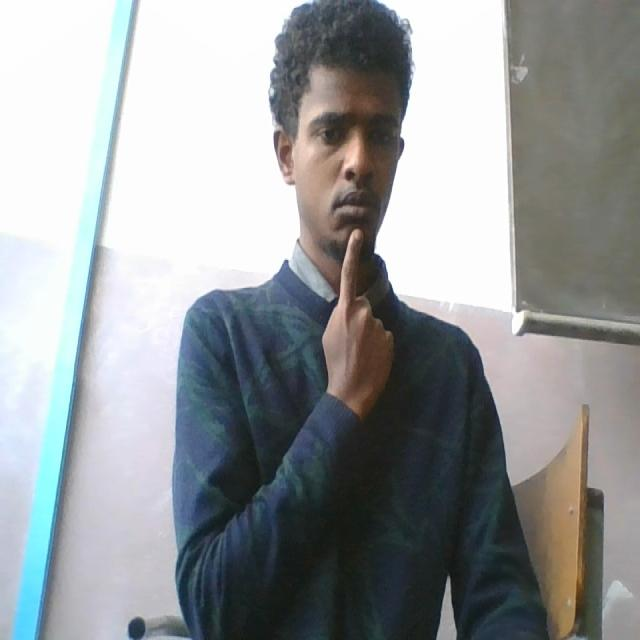lomi: (323, 198, 406, 423)
